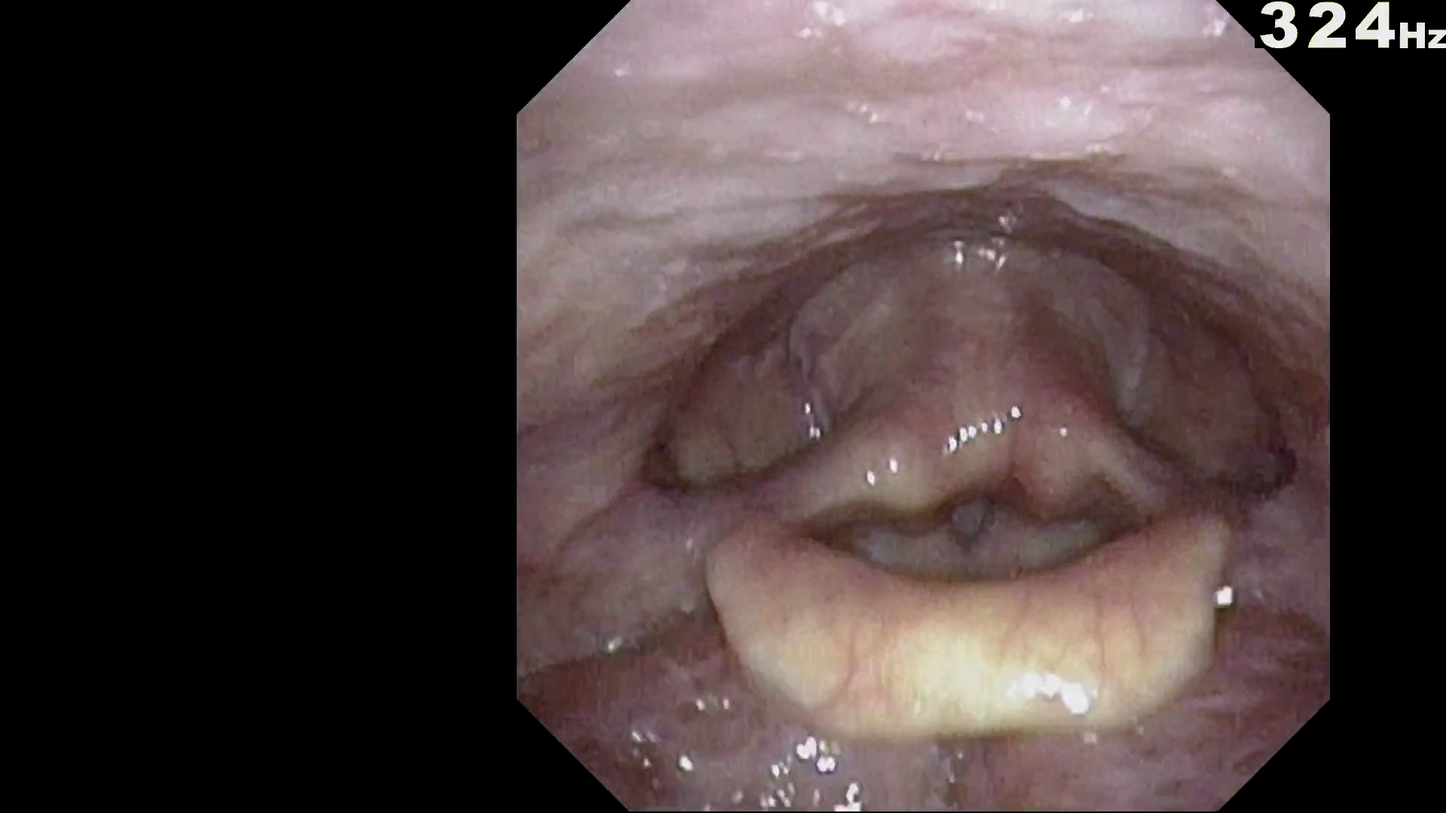epiglottis: (702, 517, 1240, 749)
trachea: (926, 482, 1008, 567)
